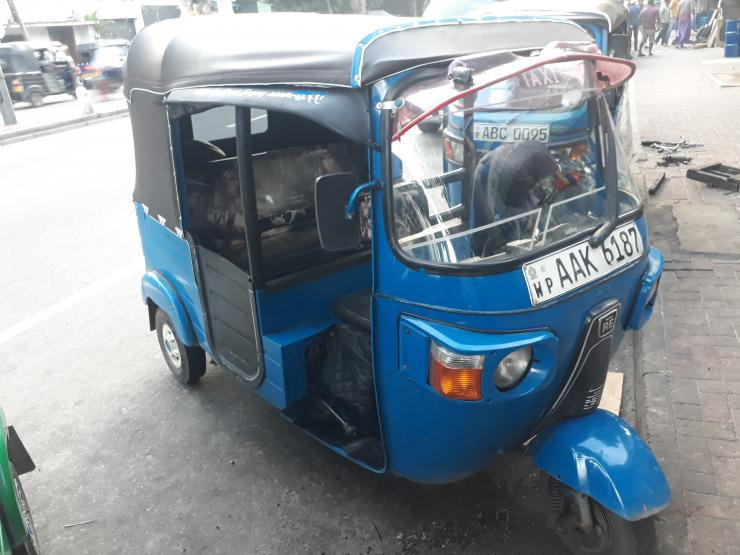threewheel: (122, 12, 671, 555)
